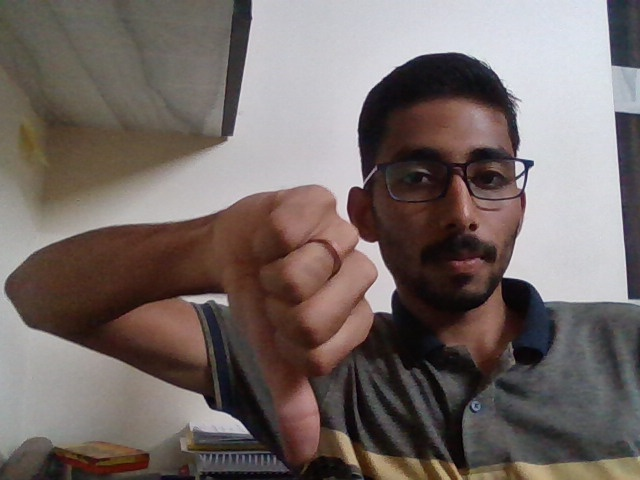No: (205, 174, 395, 472)
